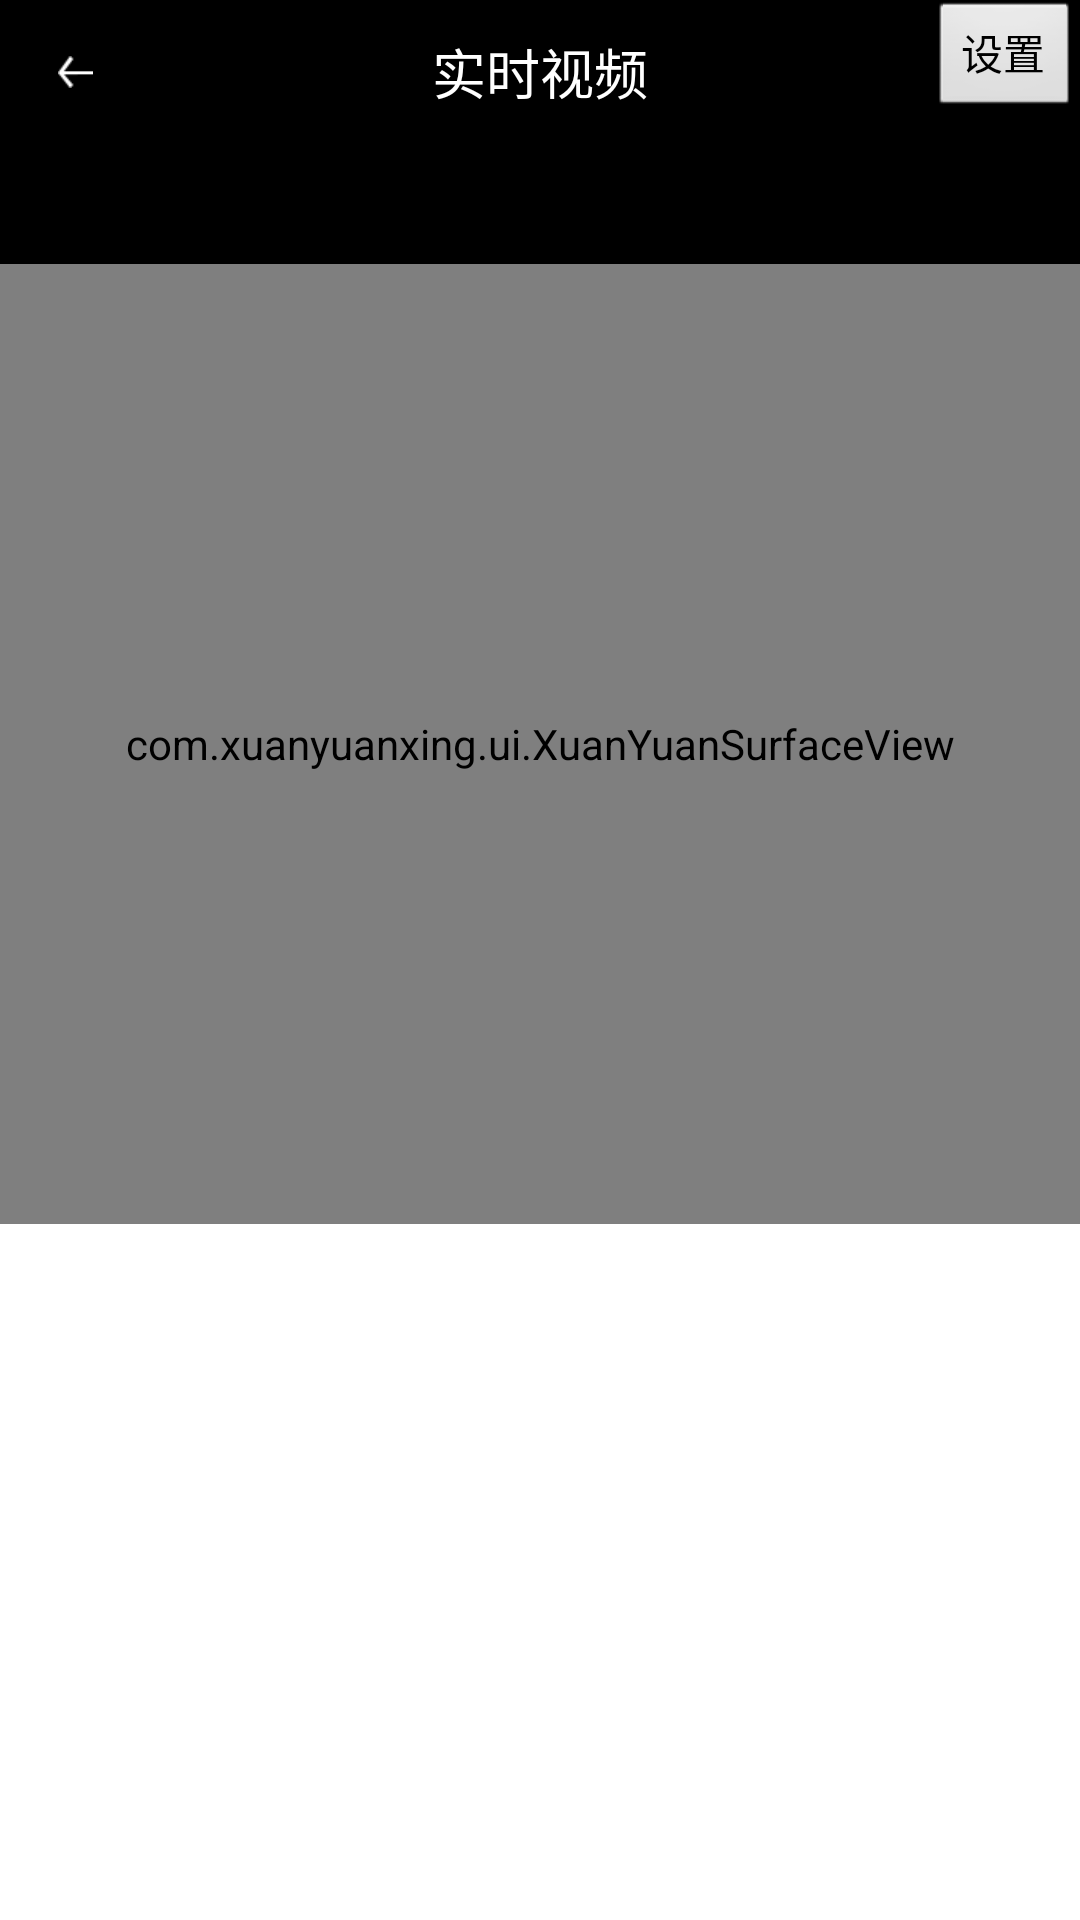

Icons on this 1080px x 1920px Android screen, each with its box as (x1, y1, x2, y2):
returns: (58, 56, 93, 88)
